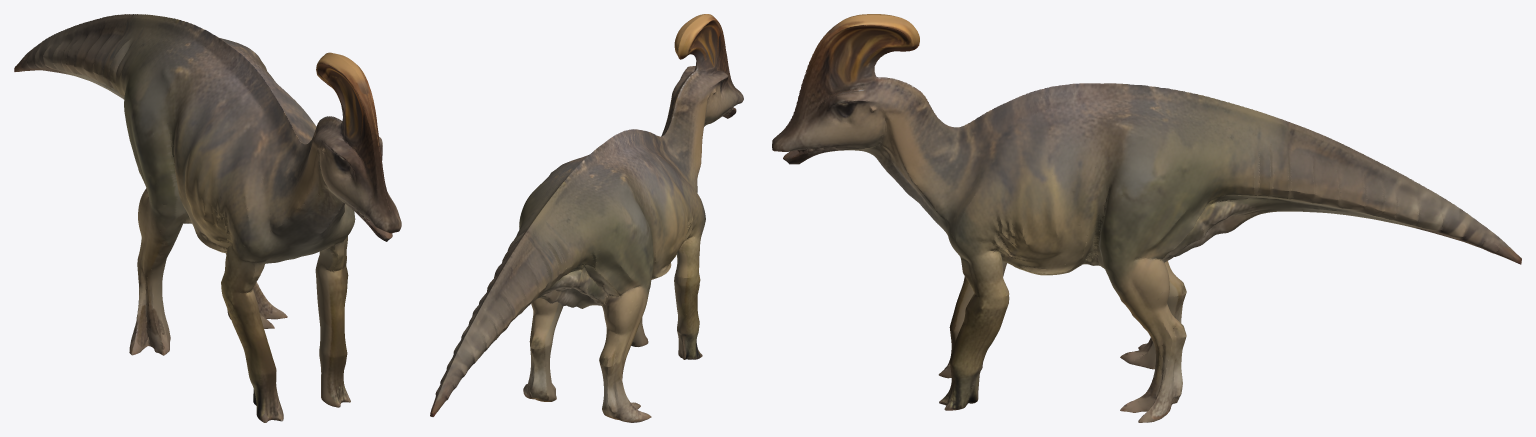
File: Corythosaurus.glb
The picture shows the model from 3 angles, left to right: view 1: azimuth 30°, elevation 25°; view 2: azimuth 150°, elevation 25°; view 3: azimuth 270°, elevation 25°; orthographic projection. The views are drawn at different scales.
Visible parts, largest first — view 1: model; view 2: model; view 3: model.
Boxes of the visible parts, x1,y1,x2,y2 form: model: (14,14,401,422); model: (430,14,743,422); model: (772,14,1521,422).
Bounding box in the file's own units: 0.4502 × 1.05 × 1.9.
1 material, 1 textured.
